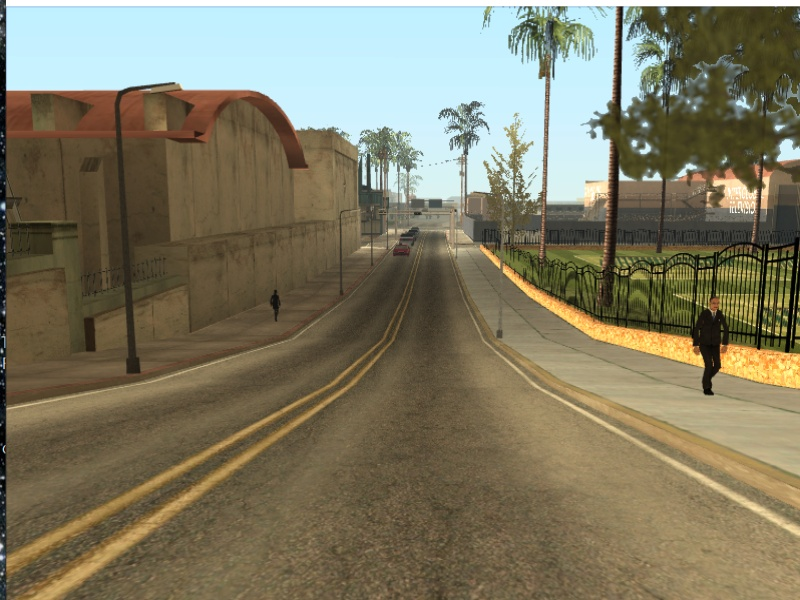person: (687, 295, 740, 398), (266, 289, 285, 322)
pole: (107, 93, 145, 376), (497, 234, 507, 346), (336, 209, 348, 296)
vehicle: (393, 241, 413, 259)
